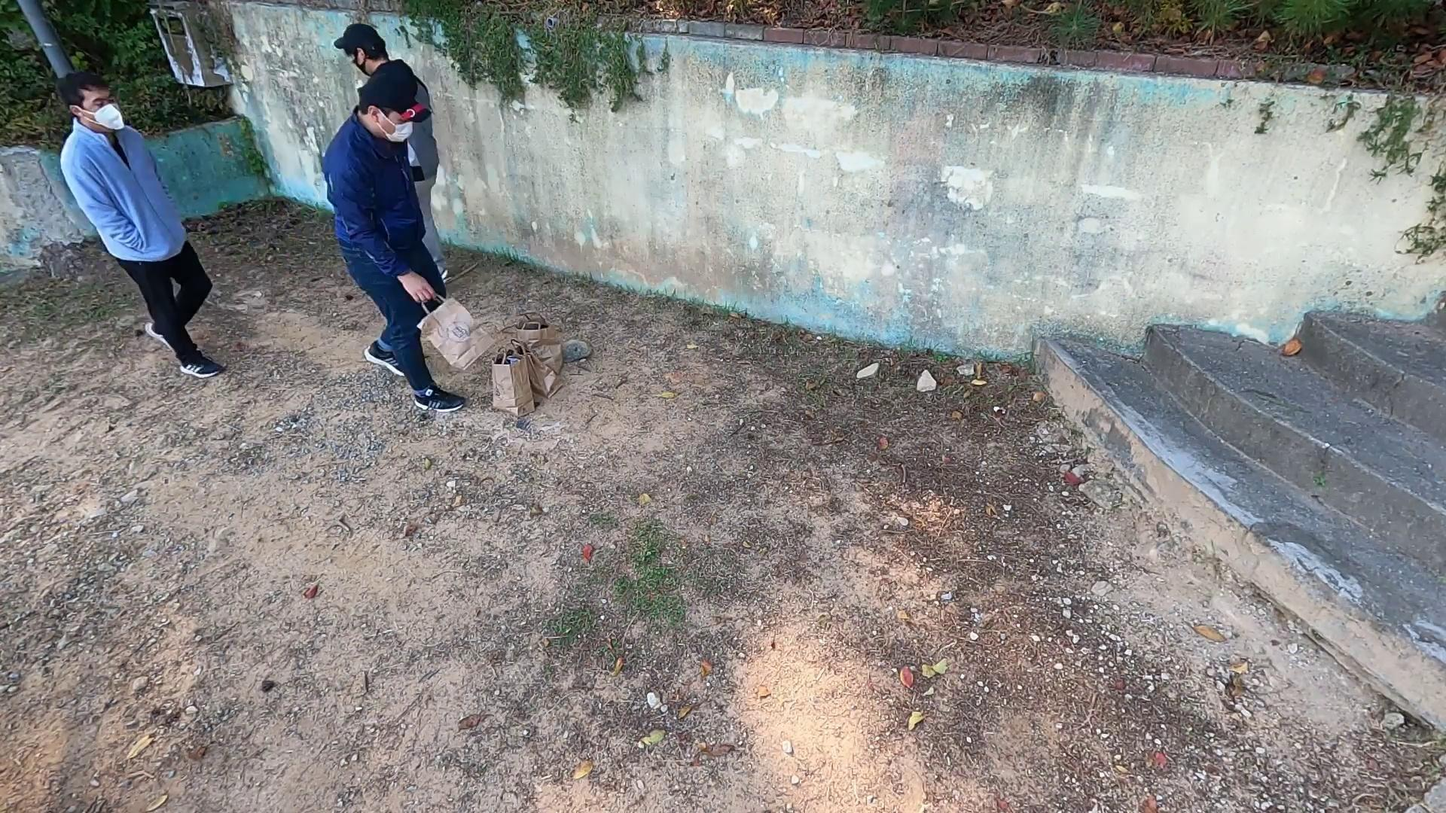person: (316, 67, 471, 415), (58, 71, 227, 379), (333, 21, 453, 288)
trash: (414, 290, 496, 371), (506, 310, 564, 377), (488, 345, 538, 415), (510, 339, 566, 400)
